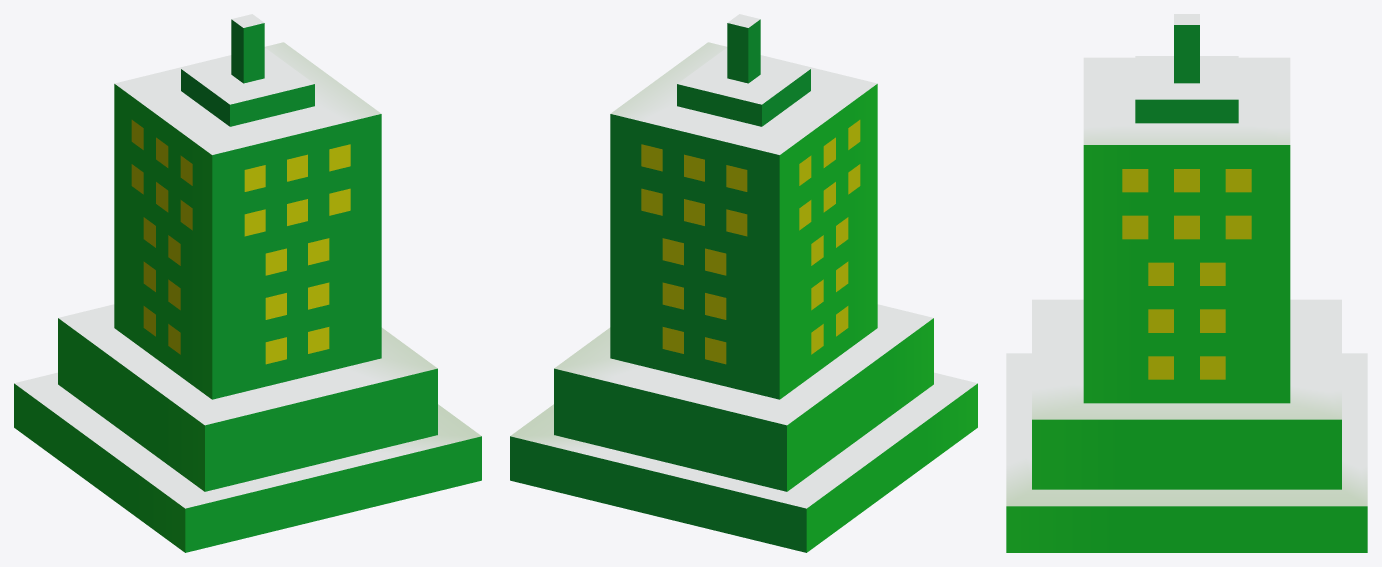
File: HQ.OrangeStar.GreenEarth.Snow.glb
3 views of the same model, side by side, from view 1: azimuth 30°, elevation 25°; view 2: azimuth 150°, elevation 25°; view 3: azimuth 270°, elevation 25° (orthographic). The views are drawn at different scales.
Parts seen in each view (by area): view 1: HQ.OrangeStar.GreenEarth.Snow; view 2: HQ.OrangeStar.GreenEarth.Snow; view 3: HQ.OrangeStar.GreenEarth.Snow.
Part boxes in pixels (left/top/right/bottom): HQ.OrangeStar.GreenEarth.Snow: left=14, top=14, right=481, bottom=552; HQ.OrangeStar.GreenEarth.Snow: left=510, top=14, right=977, bottom=552; HQ.OrangeStar.GreenEarth.Snow: left=1006, top=14, right=1367, bottom=552.
Bounding box in the file's own units: 2.8 × 3.91 × 2.8.
Materials: 2 (1 with a texture image).
